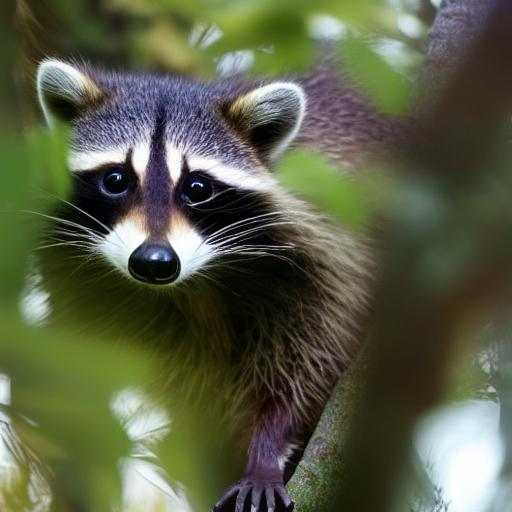raccoon: (21, 29, 408, 436)
